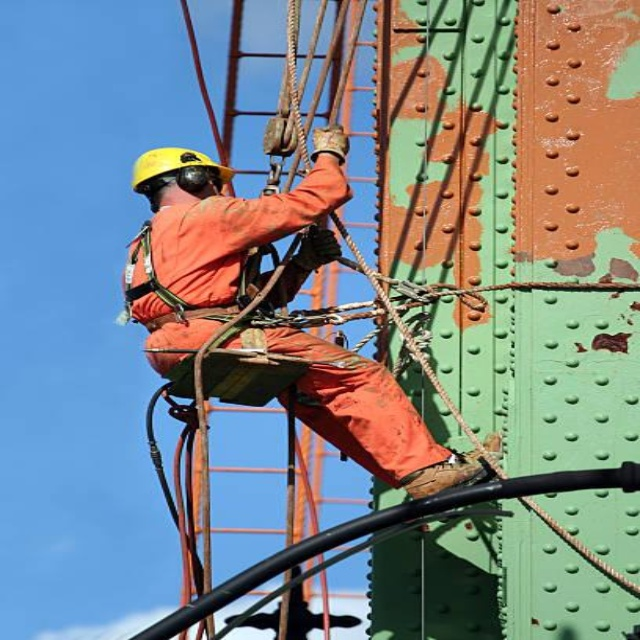Arnes_seguridad: (128, 201, 254, 387)
